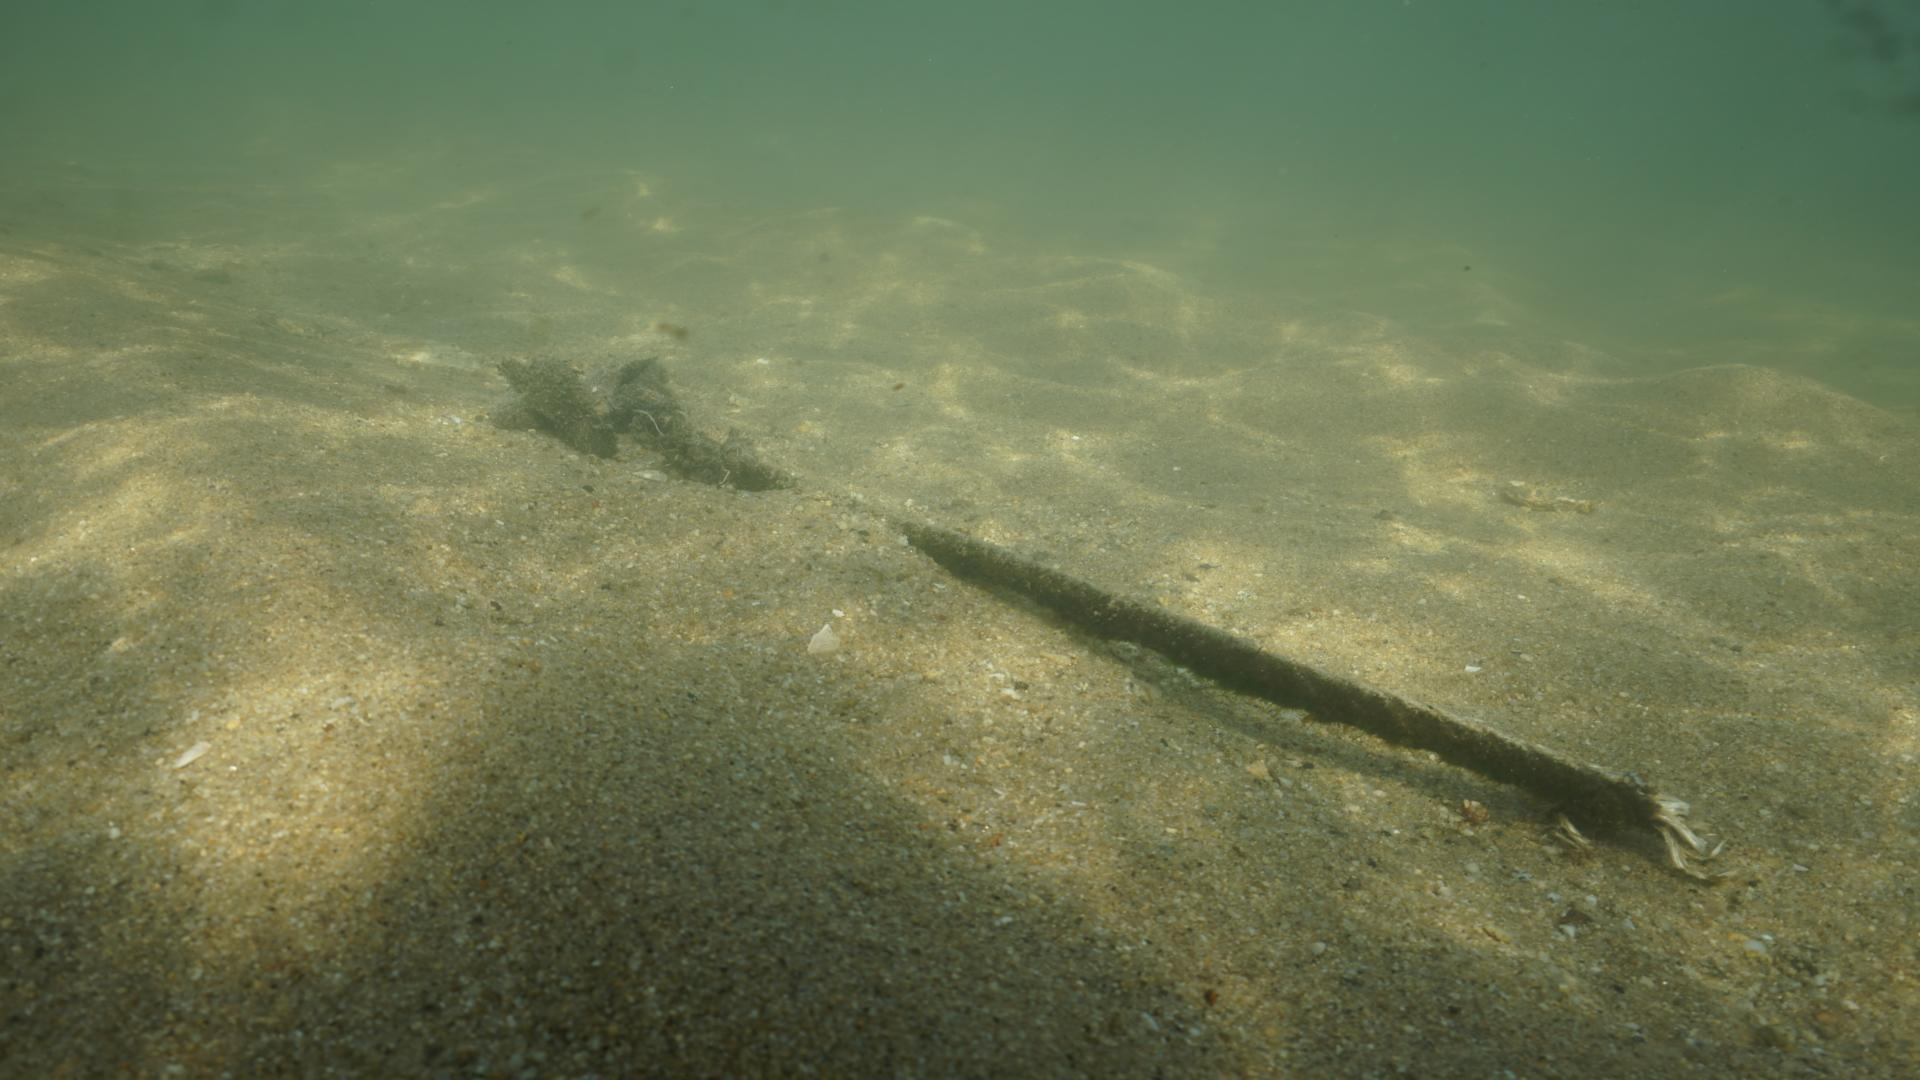wood: (615, 402, 1691, 873)
